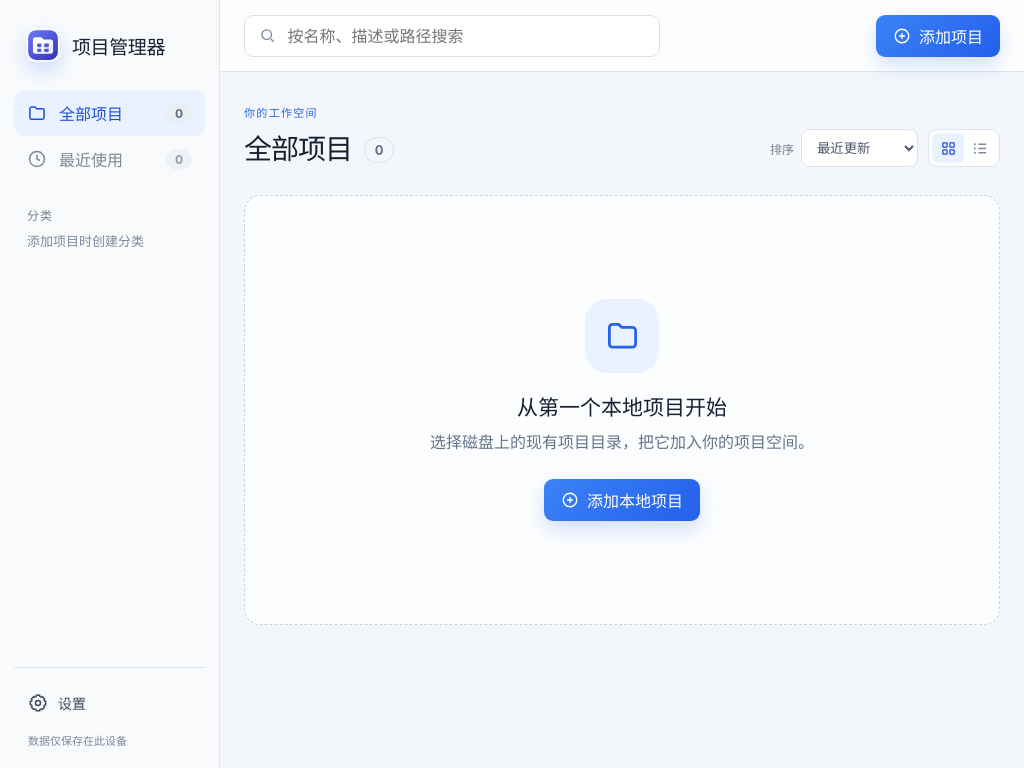
it: App import flow › creates an empty project below the configured default directory without sending a path
The image size is (1024, 768).
Expected: the heading "从第一个本地项目开始" is shown, [517,391,727,421]
Click the button "添加本地项目": (622, 500) [544,479,700,521]
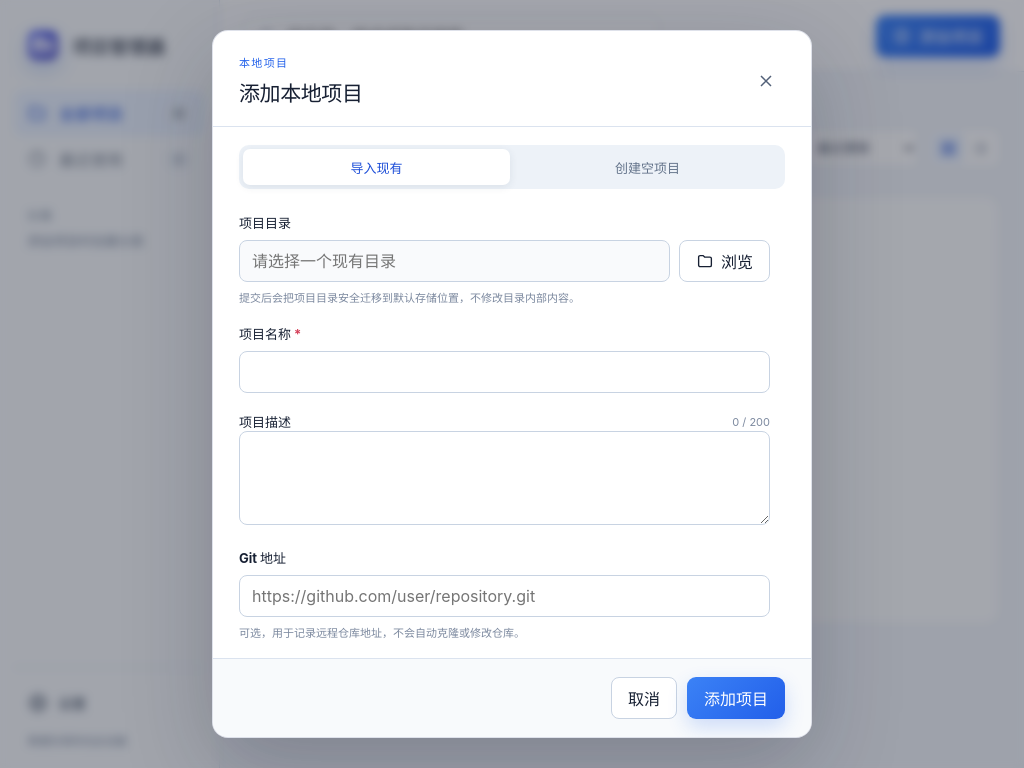
Click the tab "创建空项目": (648, 167) [514,149,781,185]
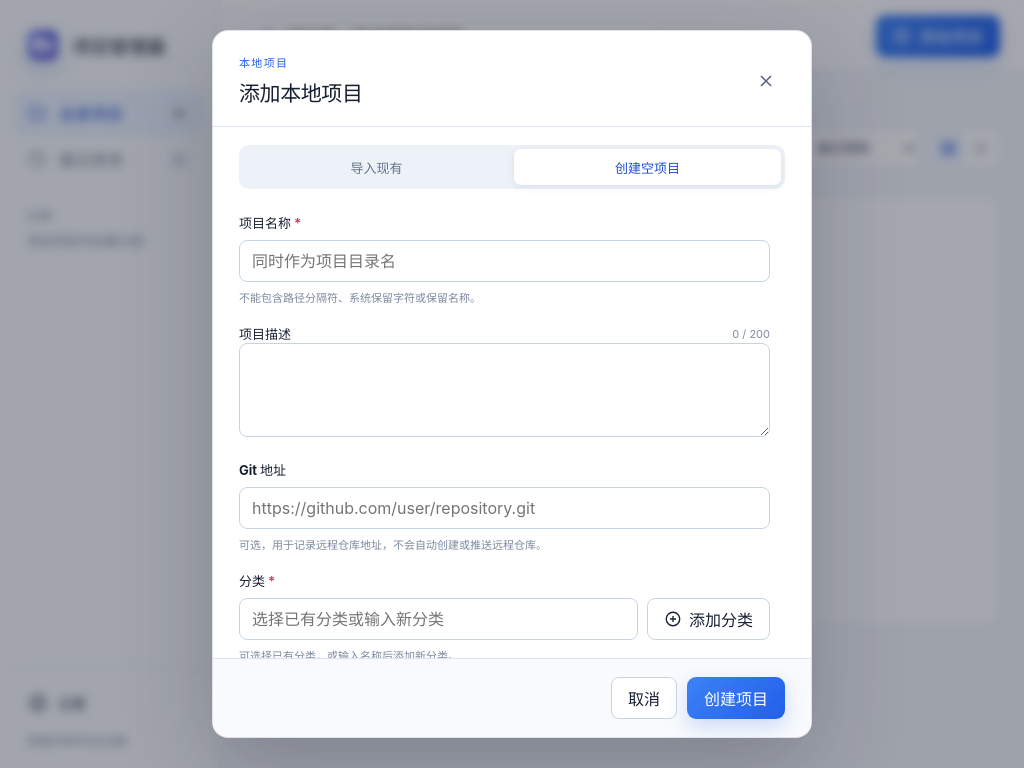
In the field labelled "项目名称 *": (504, 261) [239,240,770,282], type "dashboard"
In the text box labelled "项目描述": (504, 390) [239,343,770,437], type "内部工具"
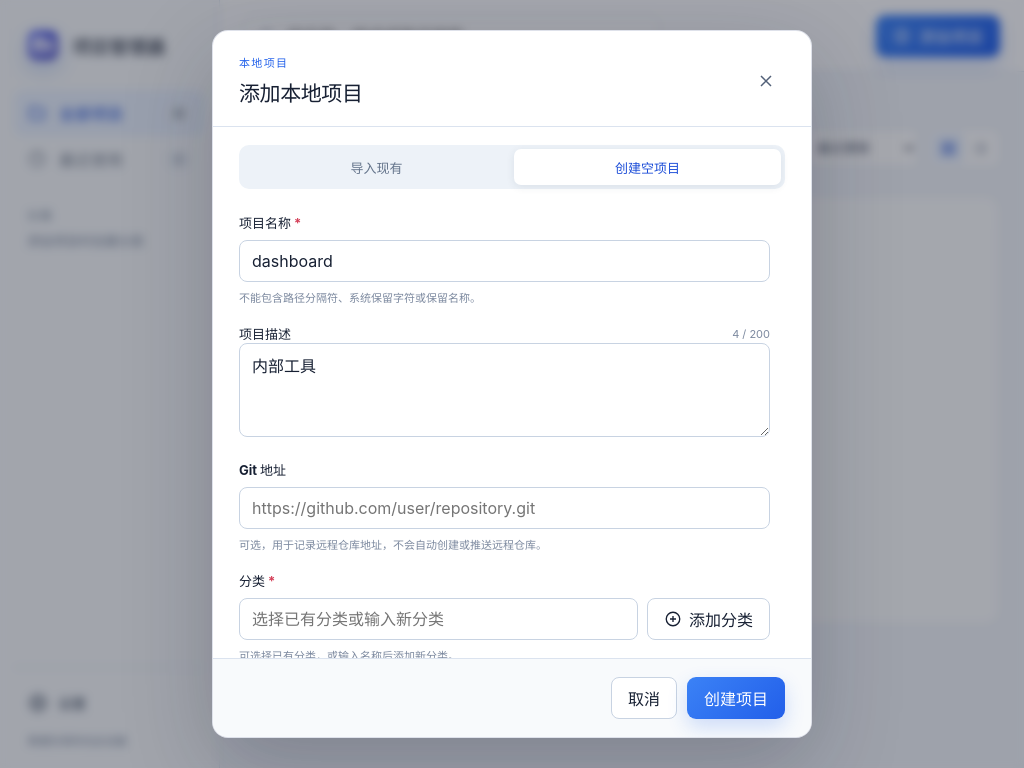
In the field labelled "Git 地址": (504, 508) [239,487,770,529], type "git@github.com:team/dashboard.git"
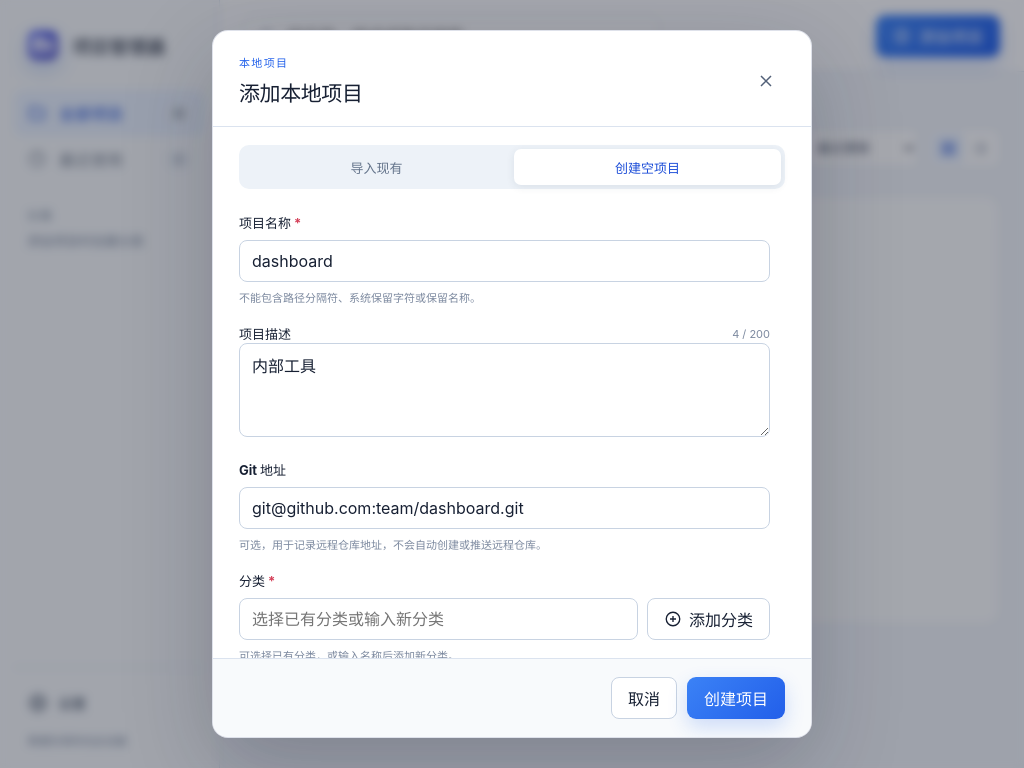
In the field labelled "分类 *": (438, 619) [239,598,638,640], type "工具"
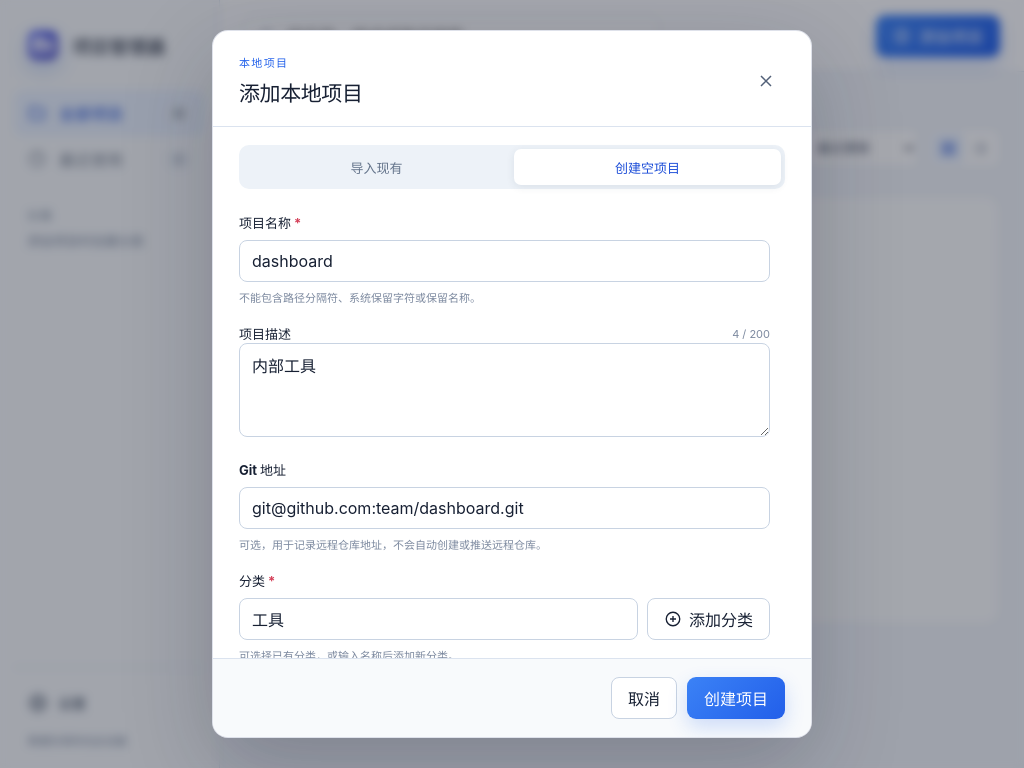
Click the button "创建项目": (736, 698) [687,677,785,719]
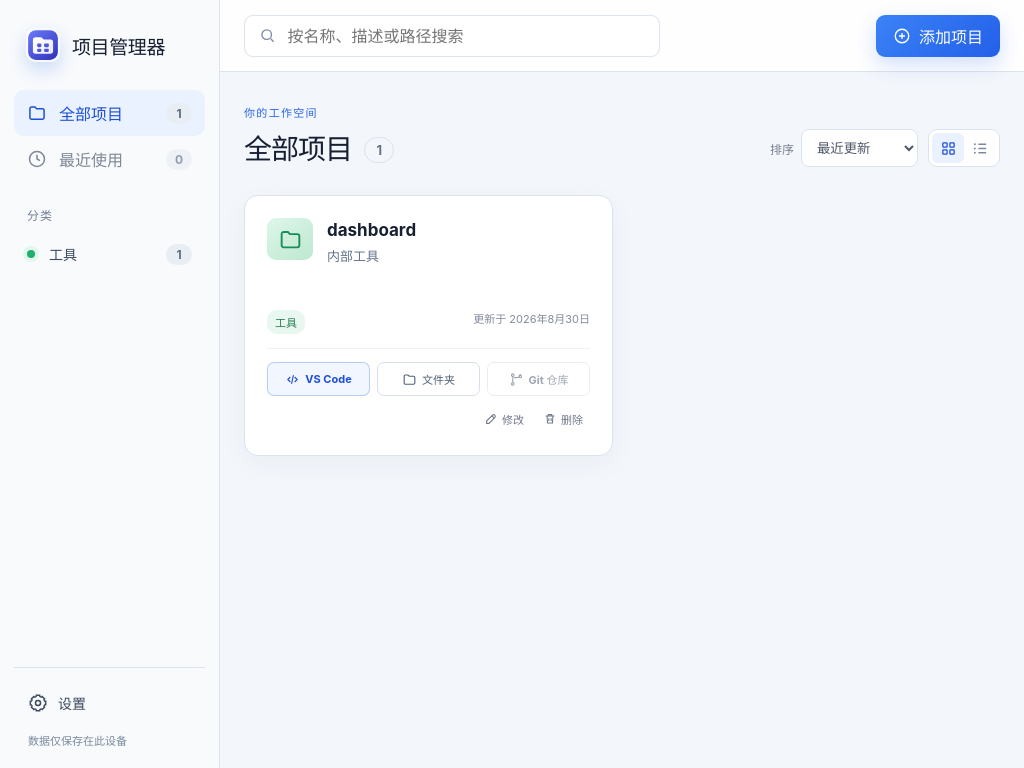
Result: the heading "dashboard" is shown at [327,220,416,240]
